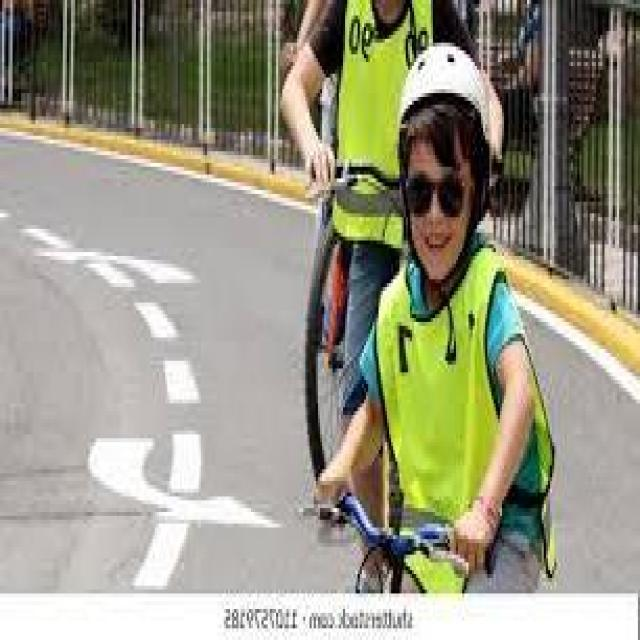Reflective-Jacket: (364, 237, 558, 578), (316, 4, 433, 268)
Safety-Helmet: (389, 31, 512, 167)
